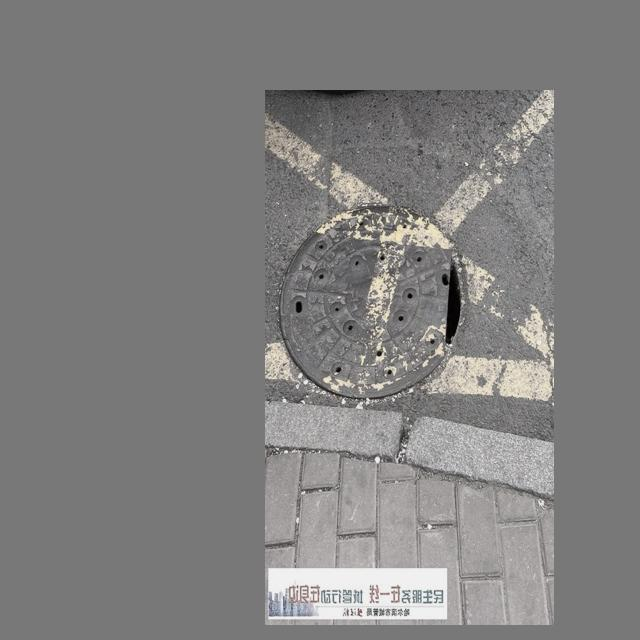broke: (276, 191, 490, 395)
